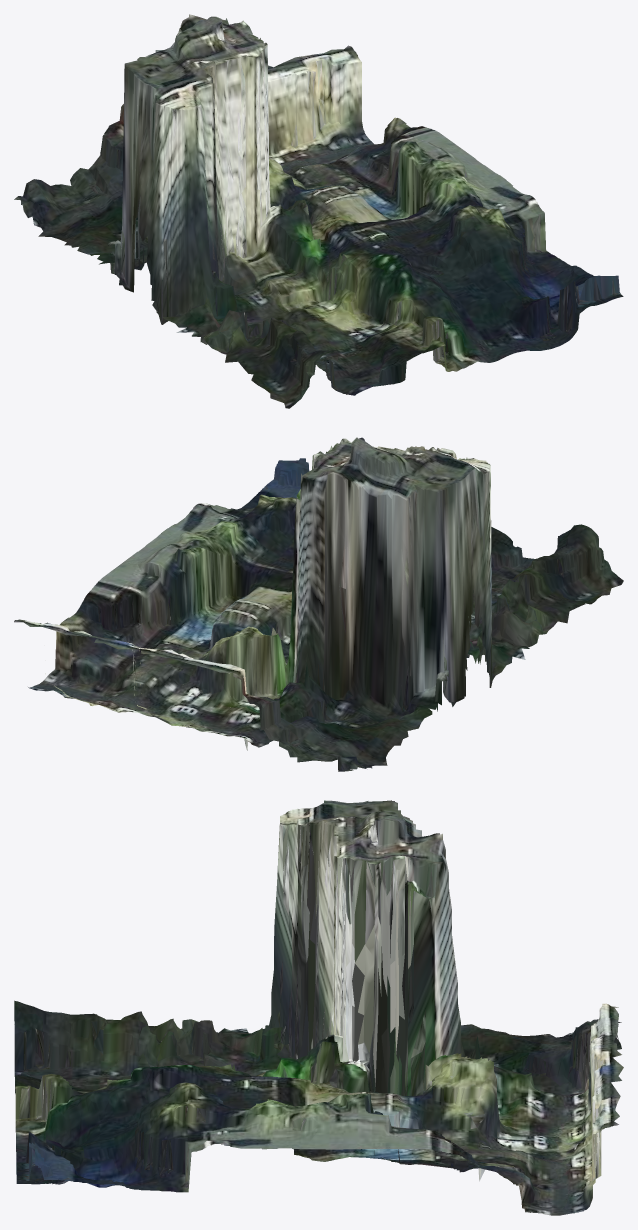
File: Tile_000_004_L14_433.glb
3 renders of one model, top to bottom at view 1: azimuth 30°, elevation 25°; view 2: azimuth 150°, elevation 25°; view 3: azimuth 270°, elevation 25°, orthographic. The views are drawn at different scales.
Visible parts, largest first — view 1: rtc; view 2: rtc; view 3: rtc.
Boxes of the visible parts, x1,y1,x2,y2 form: rtc: (14, 14, 623, 408); rtc: (14, 437, 623, 771); rtc: (14, 800, 623, 1215).
Bounding box in the file's own units: 73.92 × 61.22 × 103.
1 material, 1 textured.
